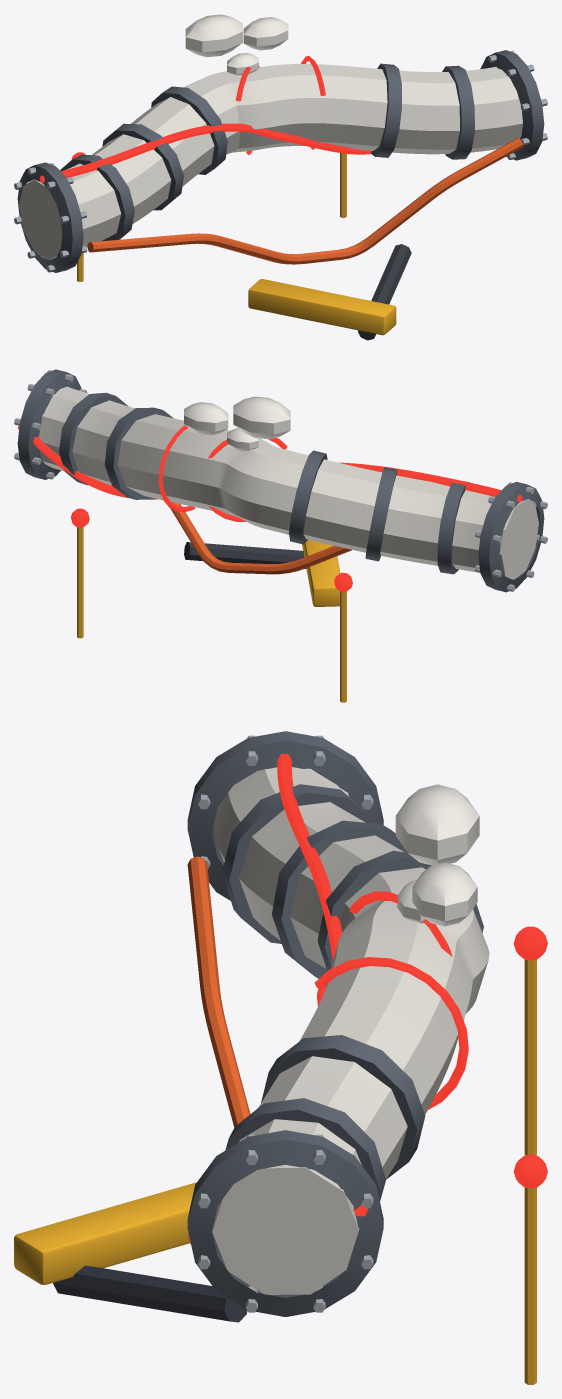
File: pipe_buckled.glb
The picture shows the model from 3 angles, top to bottom: view 1: azimuth 30°, elevation 25°; view 2: azimuth 150°, elevation 25°; view 3: azimuth 270°, elevation 25°; orthographic projection. The views are drawn at different scales.
Visible parts, largest first — view 1: pipe_buckled; view 2: pipe_buckled; view 3: pipe_buckled.
Part boxes in pixels (x1,y1,x2,y2): pipe_buckled: (14,14,547,340); pipe_buckled: (14,369,547,702); pipe_buckled: (14,731,547,1384).
Size of the model in its own units: 4.05 by 2.06 by 2.18.
